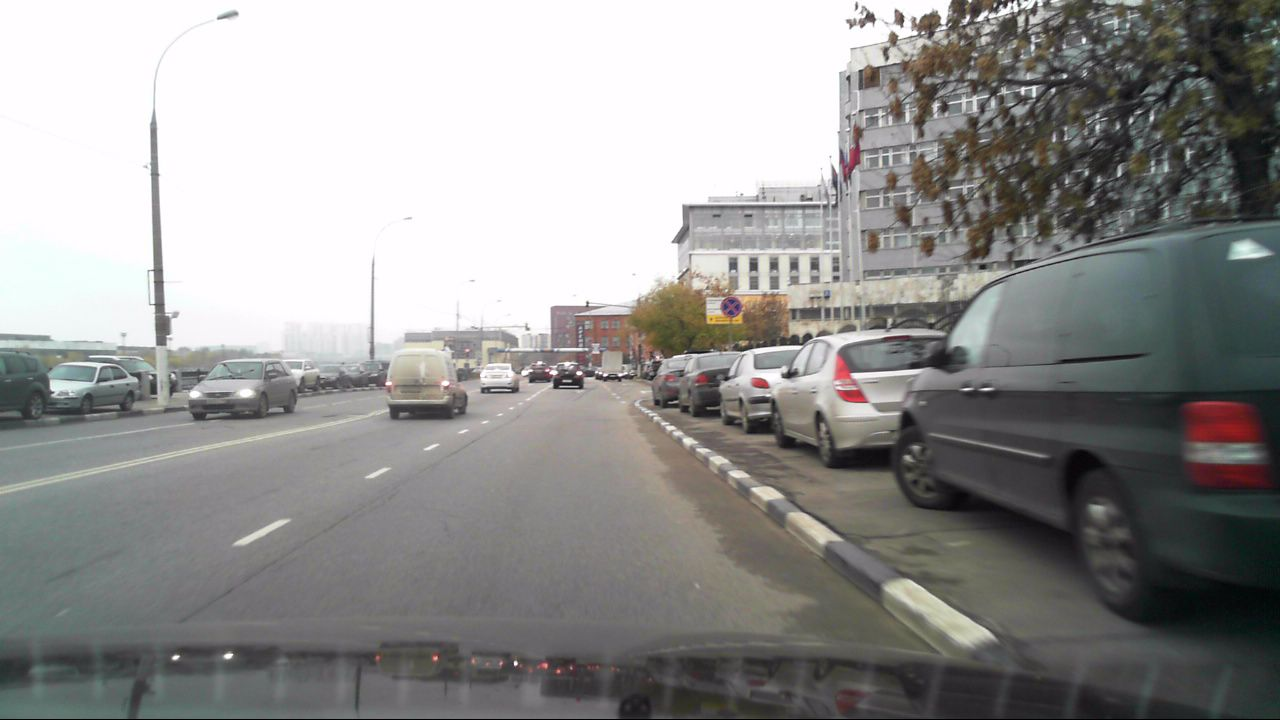No Parking: (720, 296, 742, 318)
